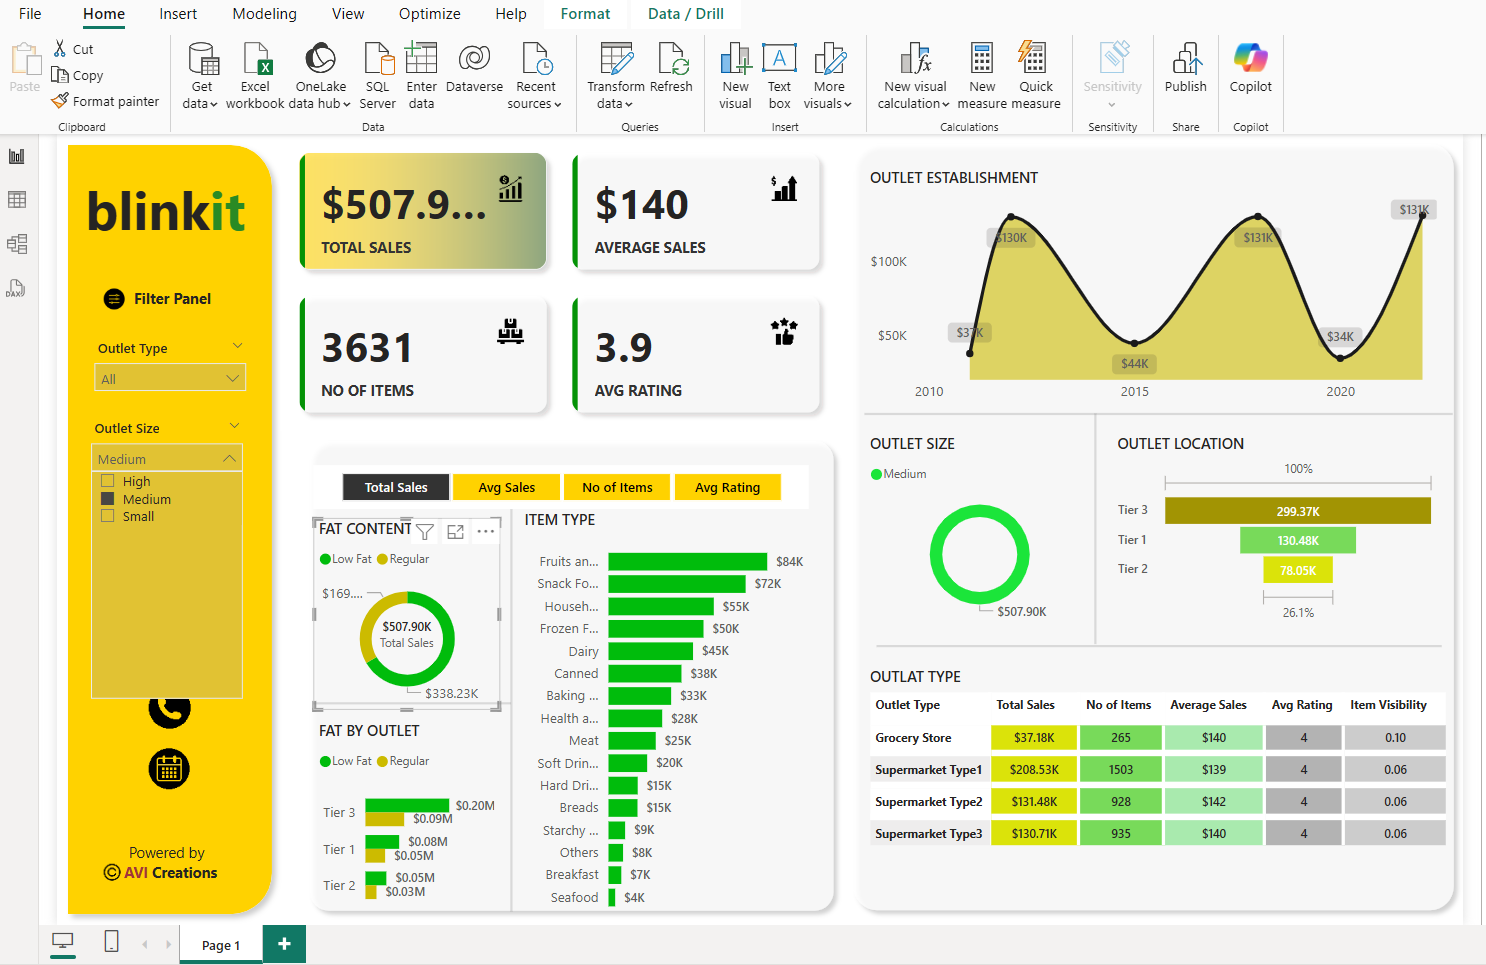

This screenshot's page, from the dashboard's own definition file:
{"tool":"powerbi","page":{"name":"Page 1","canvas":[1280,720],"ordinal":0},"visuals":[{"type":"shape","box":[0,0,205.6,720],"z":0},{"type":"textbox","box":[21,30,165.2,75.1],"z":1000},{"type":"cardVisual","fields":{"Data":["BlinkIT Grocery Data.Total Sales","BlinkIT Grocery Data.Average Sales","BlinkIT Grocery Data.No of Items","BlinkIT Grocery Data.Avg Rating"]},"box":[205.2,0,509.6,270.3],"z":2000},{"type":"shape","box":[221.1,270,494.4,445.6],"z":3000},{"type":"donutChart","title":"FAT CONTENT","fields":{"Y":["BlinkIT Grocery Data.Total Sales"],"Category":["BlinkIT Grocery Data.Item Fat Content"]},"box":[233.3,349.4,170.2,175.2],"z":4000},{"type":"slicer","fields":{"Values":["Matrix.Matrix"]},"box":[233.3,301.3,450.5,40],"z":5000},{"type":"cardVisual","fields":{"Data":["BlinkIT Grocery Data.Total Sales"]},"box":[264.4,416.7,108.9,76.7],"z":6000},{"type":"clusteredBarChart","title":"FAT BY OUTLET","fields":{"Y":["BlinkIT Grocery Data.Total Sales"],"Category":["BlinkIT Grocery Data.Outlet Location Type"],"Series":["BlinkIT Grocery Data.Item Fat Content"]},"box":[233.3,533.3,170,182.2],"z":7000},{"type":"shape","box":[233.3,502.2,180,31.1],"z":8000},{"type":"shape","box":[407.8,341.1,12.2,366.7],"z":9000},{"type":"clusteredBarChart","title":"ITEM TYPE","fields":{"Y":["BlinkIT Grocery Data.Total Sales"],"Category":["BlinkIT Grocery Data.Item Type"]},"box":[420,341.1,273.3,374.4],"z":10000},{"type":"shape","box":[715.6,0,564.4,715.6],"z":11000},{"type":"lineChart","title":"OUTLET ESTABLISHMENT","fields":{"Category":["BlinkIT Grocery Data.Outlet Establishment Year"],"Y":["BlinkIT Grocery Data.Total Sales"]},"box":[734.4,30,525.6,222.2],"z":12000},{"type":"shape","box":[734.4,238.9,535.6,31.1],"z":13000},{"type":"donutChart","title":"OUTLET SIZE","fields":{"Y":["BlinkIT Grocery Data.Total Sales"],"Category":["BlinkIT Grocery Data.Outlet Size"]},"box":[734.4,272.3,208.9,175.6],"z":14000},{"type":"shape","box":[930,254.4,30,210],"z":15000},{"type":"funnel","title":"OUTLET LOCATION","fields":{"Y":["Sum(BlinkIT Grocery Data.Sales)"],"Category":["BlinkIT Grocery Data.Outlet Location Type"]},"box":[960,272.3,300,175.6],"z":16000},{"type":"pivotTable","title":"OUTLAT TYPE","fields":{"Rows":["BlinkIT Grocery Data.Outlet Type"],"Values":["BlinkIT Grocery Data.Total Sales","BlinkIT Grocery Data.No of Items","BlinkIT Grocery Data.Average Sales","BlinkIT Grocery Data.Avg Rating","Avg(BlinkIT Grocery Data.Item Visibility)"]},"box":[734.4,484.4,535.5,190],"z":17000},{"type":"shape","box":[745.6,450,514.4,31.1],"z":18000},{"type":"slicer","fields":{"Values":["BlinkIT Grocery Data.Outlet Size"]},"box":[21.1,254.4,157.8,73.3],"z":19000},{"type":"slicer","fields":{"Values":["BlinkIT Grocery Data.Item Type"]},"box":[21.1,323.3,157.8,73.3],"z":20000},{"type":"slicer","fields":{"Values":["BlinkIT Grocery Data.Outlet Type"]},"box":[24.4,181.1,157.8,73.3],"z":21000},{"type":"textbox","box":[65.6,135.6,101.1,37.8],"z":22000},{"type":"image","box":[36.7,135.6,30,30],"z":23000},{"type":"image","box":[75.6,396.7,48.9,48.9],"z":24000},{"type":"image","box":[66.7,447.8,66.7,47.8],"z":25000},{"type":"image","box":[76.7,497.8,50,48.9],"z":26000},{"type":"image","box":[76.7,553.3,50,47.8],"z":27000},{"type":"textbox","box":[44.4,638.9,111.1,50],"z":28000},{"type":"image","box":[36.7,658.9,25.6,25.6],"z":29000}]}

Visuals, with their boxes on the page's 1280x720 design canvas (x1, y1, x2, y2). These are canvas units, not pixel positions in the 1486x965 screenshot, which may show the page scaled, cropped or inside an application window:
shape: (x1=0, y1=0, x2=206, y2=720)
textbox: (x1=21, y1=30, x2=186, y2=105)
cardVisual - BlinkIT Grocery Data.Total Sales x BlinkIT Grocery Data.Average Sales: (x1=205, y1=0, x2=715, y2=270)
shape: (x1=221, y1=270, x2=716, y2=716)
"FAT CONTENT" donutChart: (x1=233, y1=349, x2=404, y2=525)
slicer - Matrix.Matrix: (x1=233, y1=301, x2=684, y2=341)
cardVisual - BlinkIT Grocery Data.Total Sales: (x1=264, y1=417, x2=373, y2=493)
"FAT BY OUTLET" clusteredBarChart: (x1=233, y1=533, x2=403, y2=716)
shape: (x1=233, y1=502, x2=413, y2=533)
shape: (x1=408, y1=341, x2=420, y2=708)
"ITEM TYPE" clusteredBarChart: (x1=420, y1=341, x2=693, y2=716)
shape: (x1=716, y1=0, x2=1280, y2=716)
"OUTLET ESTABLISHMENT" lineChart: (x1=734, y1=30, x2=1260, y2=252)
shape: (x1=734, y1=239, x2=1270, y2=270)
"OUTLET SIZE" donutChart: (x1=734, y1=272, x2=943, y2=448)
shape: (x1=930, y1=254, x2=960, y2=464)
"OUTLET LOCATION" funnel: (x1=960, y1=272, x2=1260, y2=448)
"OUTLAT TYPE" pivotTable: (x1=734, y1=484, x2=1270, y2=674)
shape: (x1=746, y1=450, x2=1260, y2=481)
slicer - BlinkIT Grocery Data.Outlet Size: (x1=21, y1=254, x2=179, y2=328)
slicer - BlinkIT Grocery Data.Item Type: (x1=21, y1=323, x2=179, y2=397)
slicer - BlinkIT Grocery Data.Outlet Type: (x1=24, y1=181, x2=182, y2=254)
textbox: (x1=66, y1=136, x2=167, y2=173)
image: (x1=37, y1=136, x2=67, y2=166)
image: (x1=76, y1=397, x2=124, y2=446)
image: (x1=67, y1=448, x2=133, y2=496)
image: (x1=77, y1=498, x2=127, y2=547)
image: (x1=77, y1=553, x2=127, y2=601)
textbox: (x1=44, y1=639, x2=156, y2=689)
image: (x1=37, y1=659, x2=62, y2=684)
